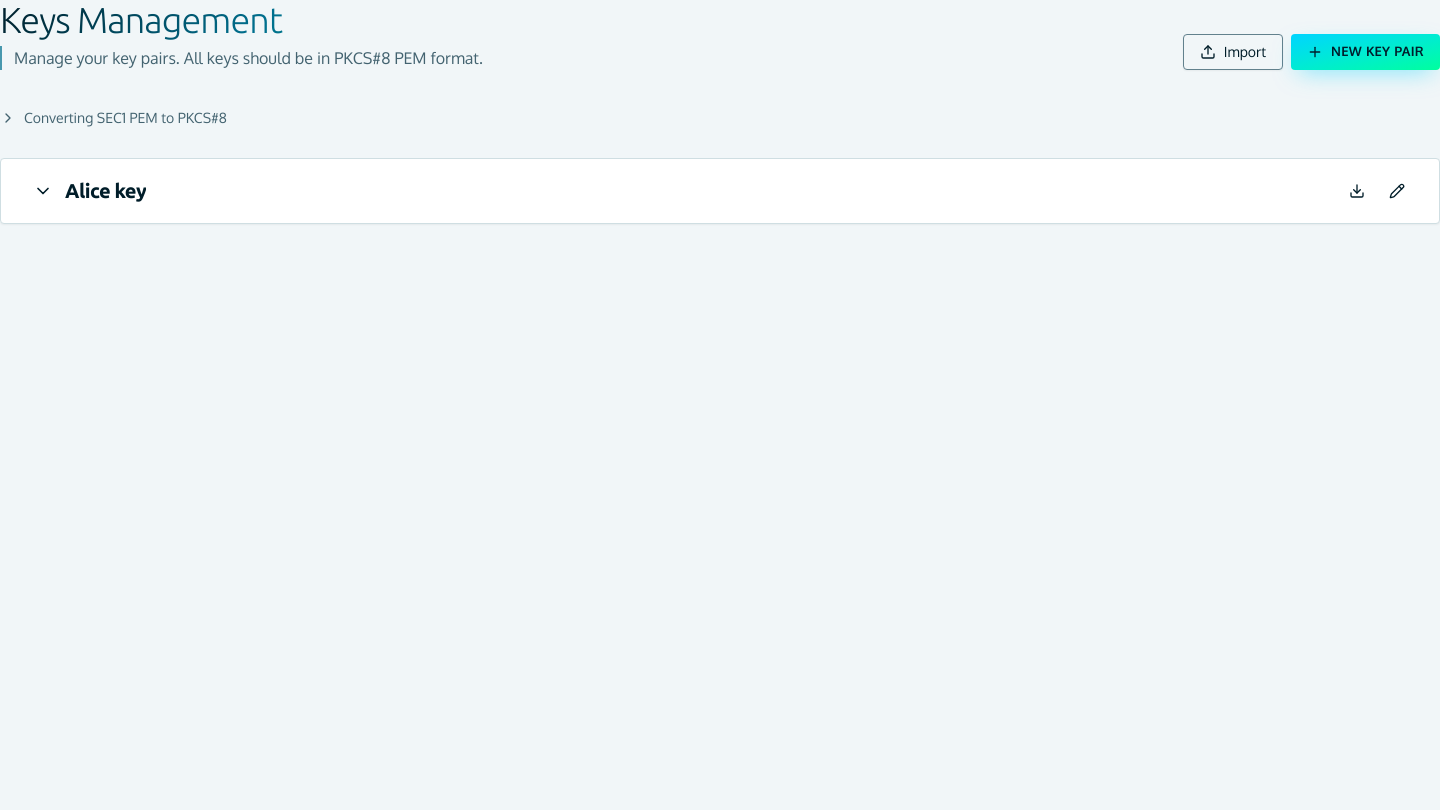
Scenario: Keys page › edit › clicking the pencil again closes the edit form
Click the button named "Edit key pair Alice key". click: [1397, 191]
box: [1379,173,1415,209]
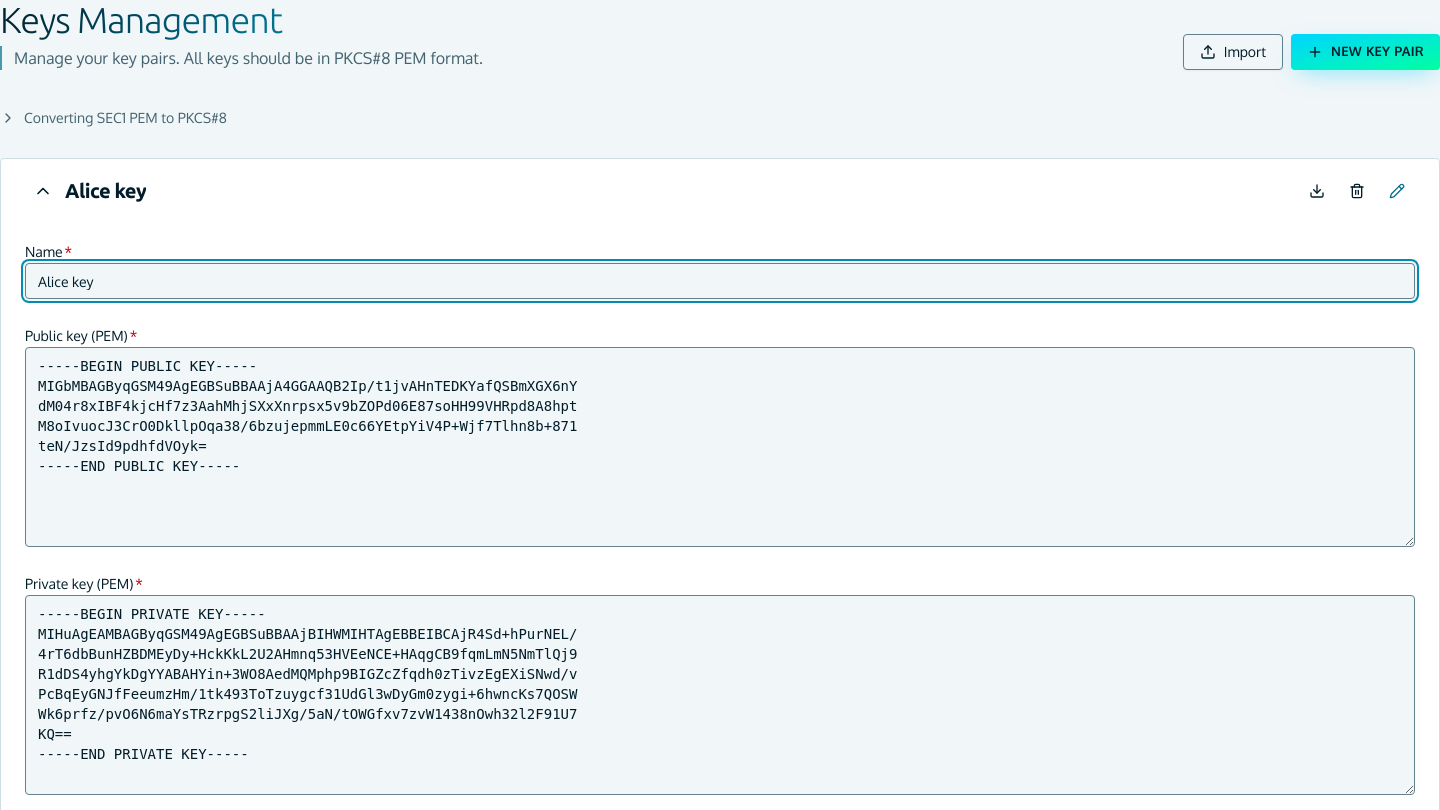
Now the field with placeholder "Name" is shown, box [25,263,1415,299]
Click the button named "Edit key pair Alice key". click: [1397, 191]
box: [1379,173,1415,209]
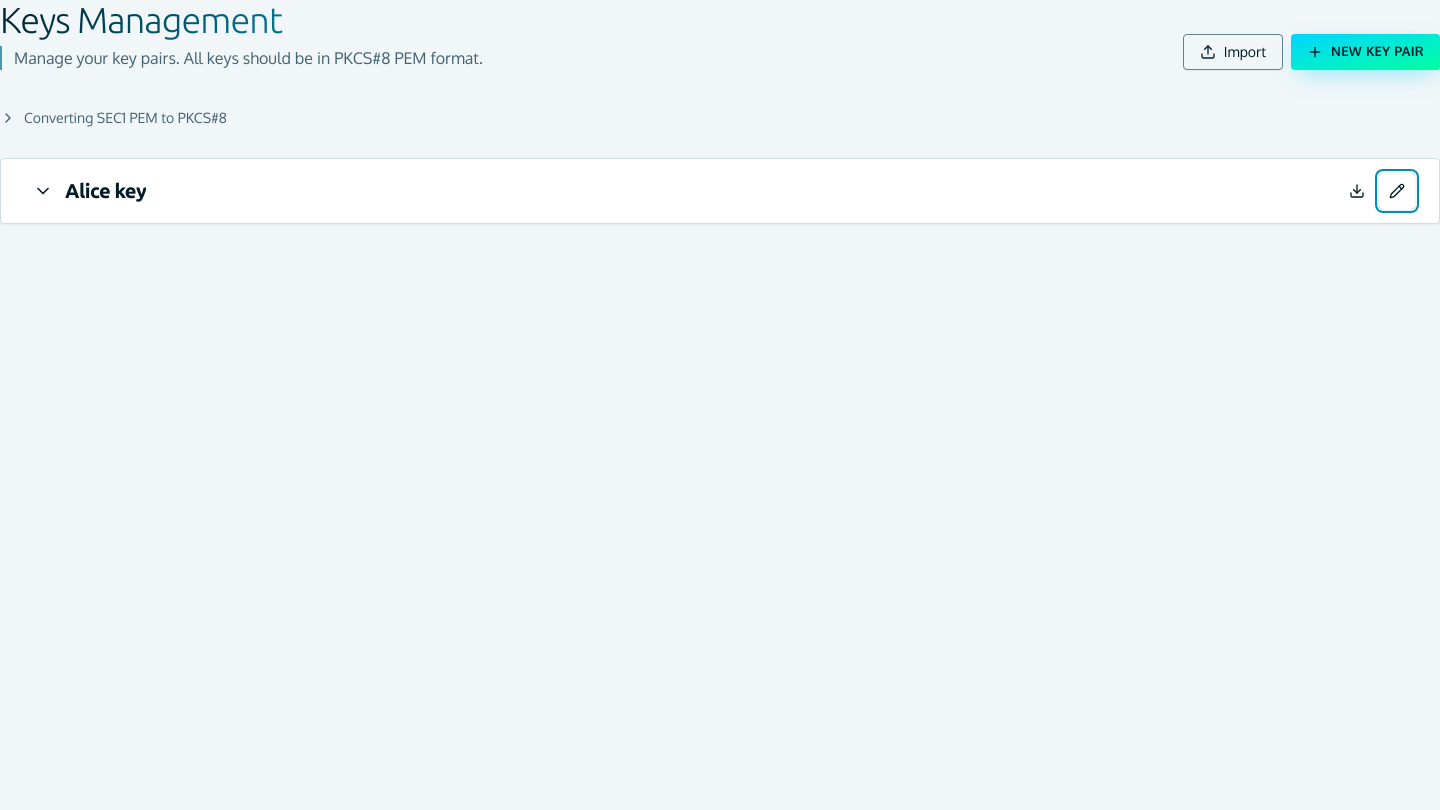
Now the label with placeholder "Name" is gone
